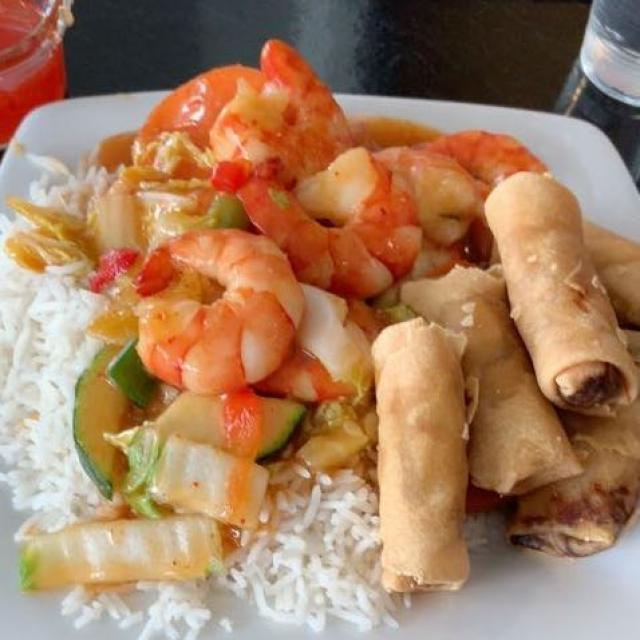curry-vegetarian: (32, 24, 555, 581)
rice: (3, 262, 111, 530)
shrimp: (128, 42, 545, 406)
spring-roll-fried: (374, 165, 637, 590)
